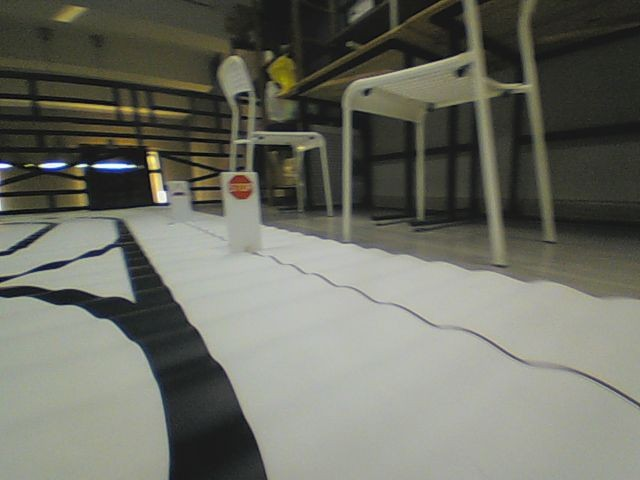Stop: (227, 174, 254, 200)
